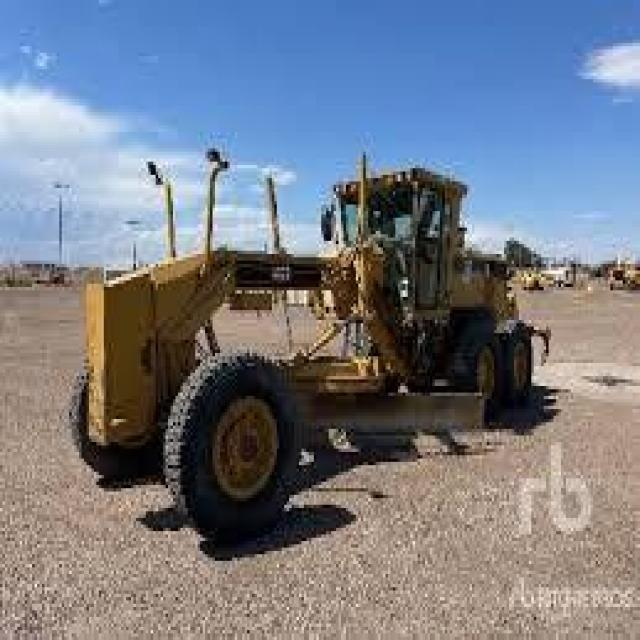Grader: (45, 126, 551, 544)
